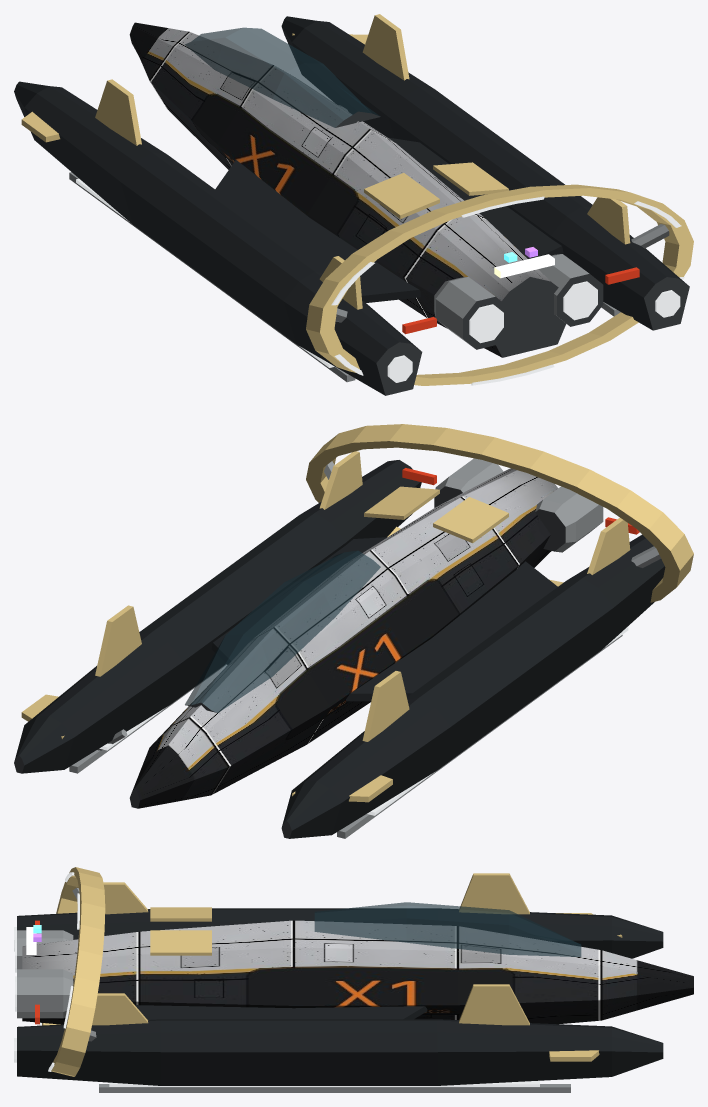
File: halo.glb
The picture shows the model from 3 angles, top to bottom: view 1: azimuth 30°, elevation 25°; view 2: azimuth 150°, elevation 25°; view 3: azimuth 270°, elevation 25°; orthographic projection. The views are drawn at different scales.
Parts seen in each view (by area): view 1: body_static, stabiliser_ring_body, airbrake_L_body, steering_fin_R_body, steering_fin_L_body, airbrake_R_body, elevon_R_body, skids_body, elevon_L_body; view 2: body_static, stabiliser_ring_body, airbrake_L_body, steering_fin_R_body, steering_fin_L_body, skids_body, airbrake_R_body, elevon_R_body, elevon_L_body; view 3: body_static, stabiliser_ring_body, skids_body, steering_fin_R_body, steering_fin_L_body, airbrake_R_body, elevon_R_body, elevon_L_body, airbrake_L_body.
Boxes of the visible parts, left/top/right/bottom form: body_static: left=14, top=16, right=689, bottom=395; stabiliser_ring_body: left=306, top=184, right=693, bottom=385; airbrake_L_body: left=364, top=173, right=439, bottom=218; steering_fin_R_body: left=362, top=14, right=409, bottom=80; steering_fin_L_body: left=95, top=79, right=141, bottom=145; airbrake_R_body: left=433, top=162, right=508, bottom=195; elevon_R_body: left=587, top=197, right=630, bottom=244; skids_body: left=69, top=105, right=620, bottom=382; elevon_L_body: left=319, top=256, right=362, bottom=309; body_static: left=14, top=458, right=665, bottom=838; stabiliser_ring_body: left=306, top=424, right=693, bottom=602; airbrake_L_body: left=433, top=497, right=508, bottom=543; steering_fin_R_body: left=95, top=605, right=141, bottom=676; steering_fin_L_body: left=362, top=671, right=409, bottom=741; skids_body: left=69, top=635, right=622, bottom=838; airbrake_R_body: left=364, top=486, right=439, bottom=519; elevon_R_body: left=319, top=451, right=362, bottom=509; elevon_L_body: left=587, top=518, right=630, bottom=574; body_static: left=14, top=888, right=693, bottom=1086; stabiliser_ring_body: left=39, top=867, right=105, bottom=1076; skids_body: left=99, top=1084, right=570, bottom=1092; steering_fin_R_body: left=459, top=984, right=529, bottom=1025; steering_fin_L_body: left=459, top=873, right=529, bottom=914; airbrake_R_body: left=150, top=930, right=211, bottom=955; elevon_R_body: left=92, top=993, right=148, bottom=1025; elevon_L_body: left=103, top=882, right=148, bottom=914; airbrake_L_body: left=150, top=907, right=211, bottom=921.
Size of the model in its own units: 3.58 by 1.51 by 6.63.
10 materials, 2 textured.
